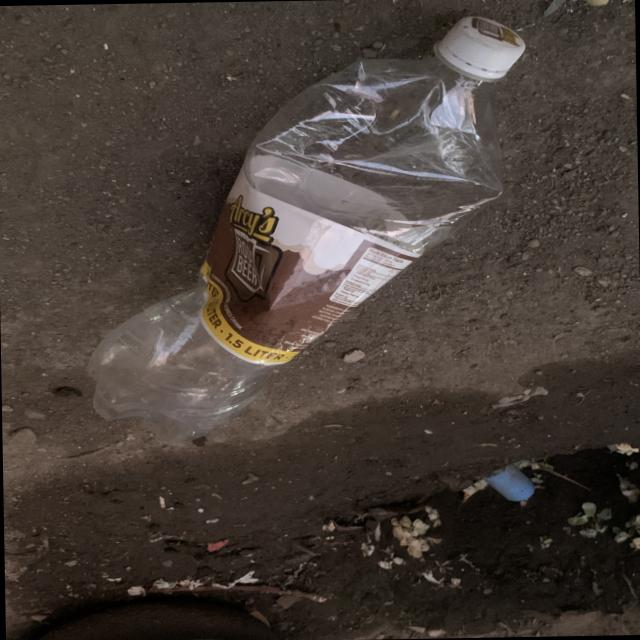Bottle: (89, 15, 524, 443)
